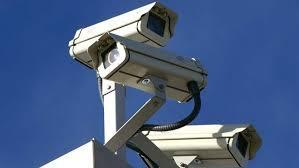tutu: (84, 32, 214, 108), (66, 0, 188, 69), (132, 120, 266, 168)
